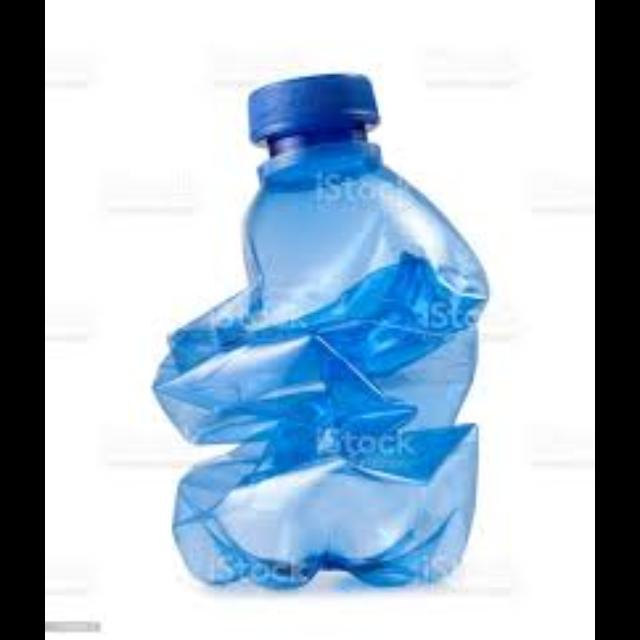trash: (150, 52, 492, 592)
